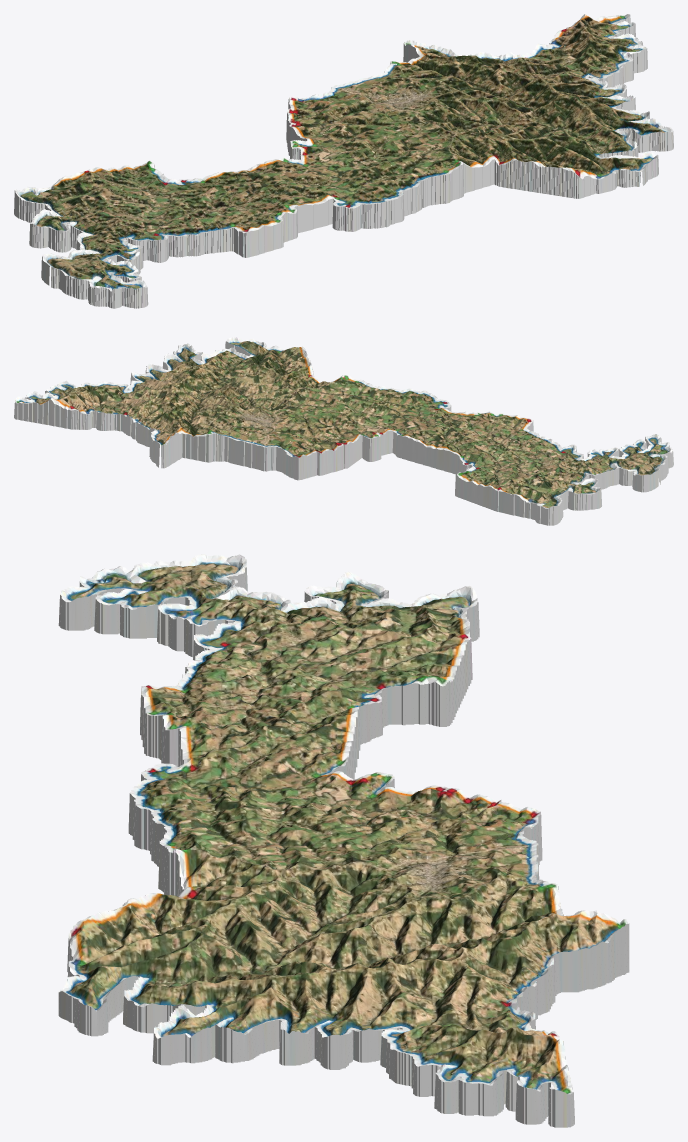
3 renders of one model, top to bottom at view 1: azimuth 30°, elevation 25°; view 2: azimuth 150°, elevation 25°; view 3: azimuth 270°, elevation 25°, orthographic. The views are drawn at different scales.
Bounding box in the file's own units: 1 × 0.0479 × 0.4459.
1 material, 1 textured.
